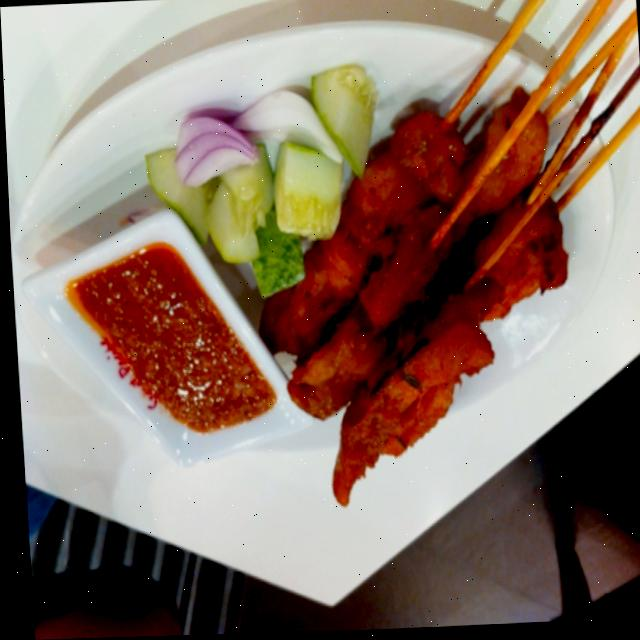牛肉菜式: (235, 0, 640, 544)
